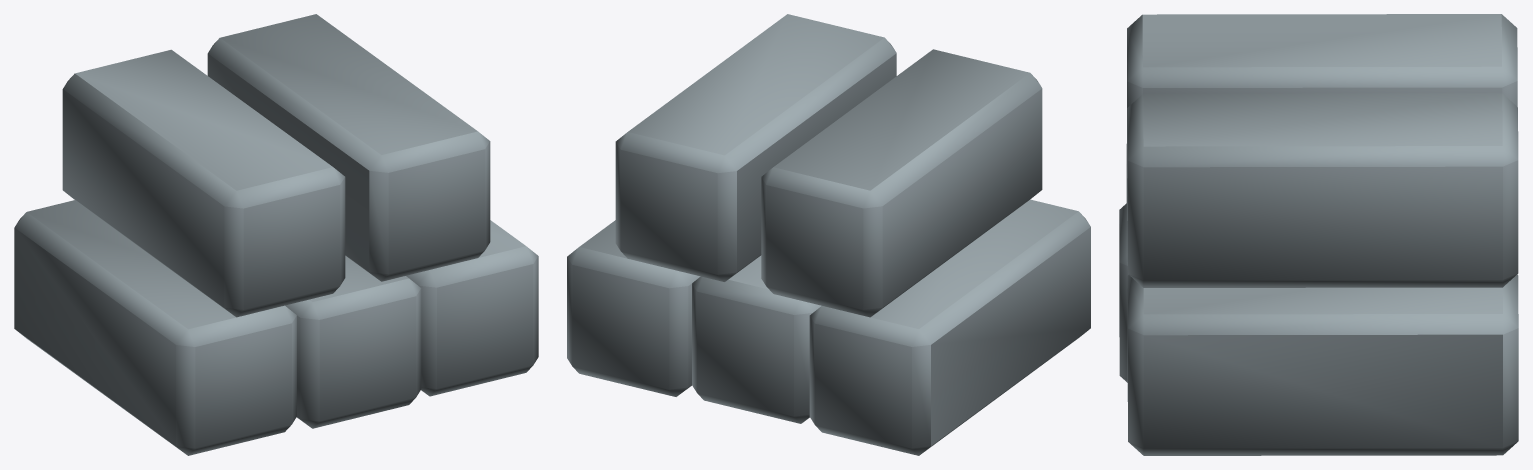
The model's file is resource_stone.glb.
3 views of the same model, side by side, from view 1: azimuth 30°, elevation 25°; view 2: azimuth 150°, elevation 25°; view 3: azimuth 270°, elevation 25° (orthographic). The views are drawn at different scales.
Parts seen in each view (by area): view 1: resource_stone; view 2: resource_stone; view 3: resource_stone.
Part boxes in pixels (bbox=[...]): resource_stone: bbox=[14, 14, 538, 455]; resource_stone: bbox=[567, 14, 1090, 455]; resource_stone: bbox=[1119, 14, 1518, 455].
Bounding box in the file's own units: 0.4211 × 0.28 × 0.3579.
Materials: 1 (1 with a texture image).
